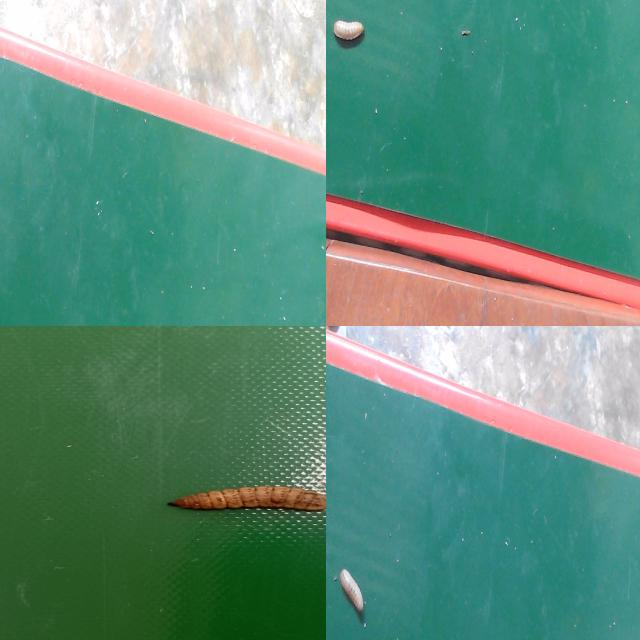Maggot: (168, 486, 326, 515), (338, 571, 368, 626), (331, 19, 366, 49)
